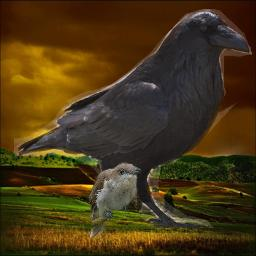Crow: (14, 9, 252, 228)
Cuckoo: (87, 162, 141, 239)
